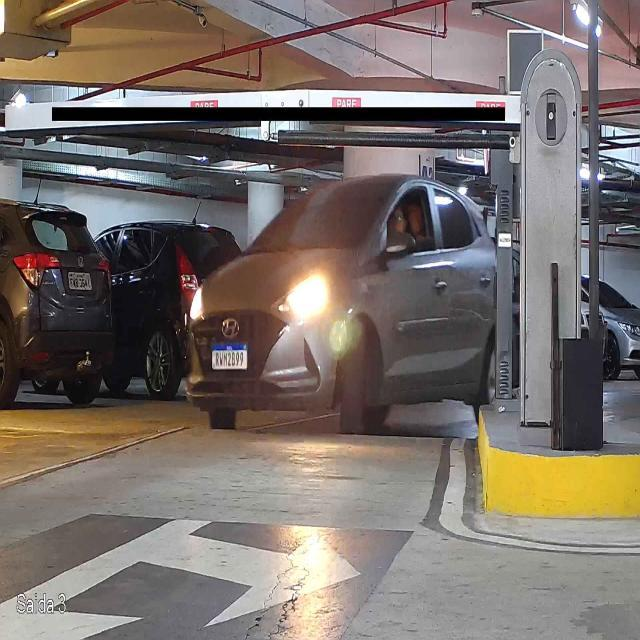mercosul_plate: (210, 344, 250, 372)
